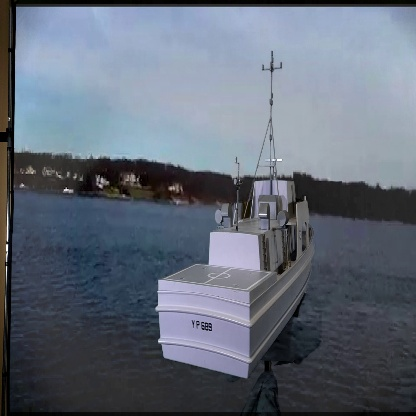YP689: (156, 54, 318, 380)
